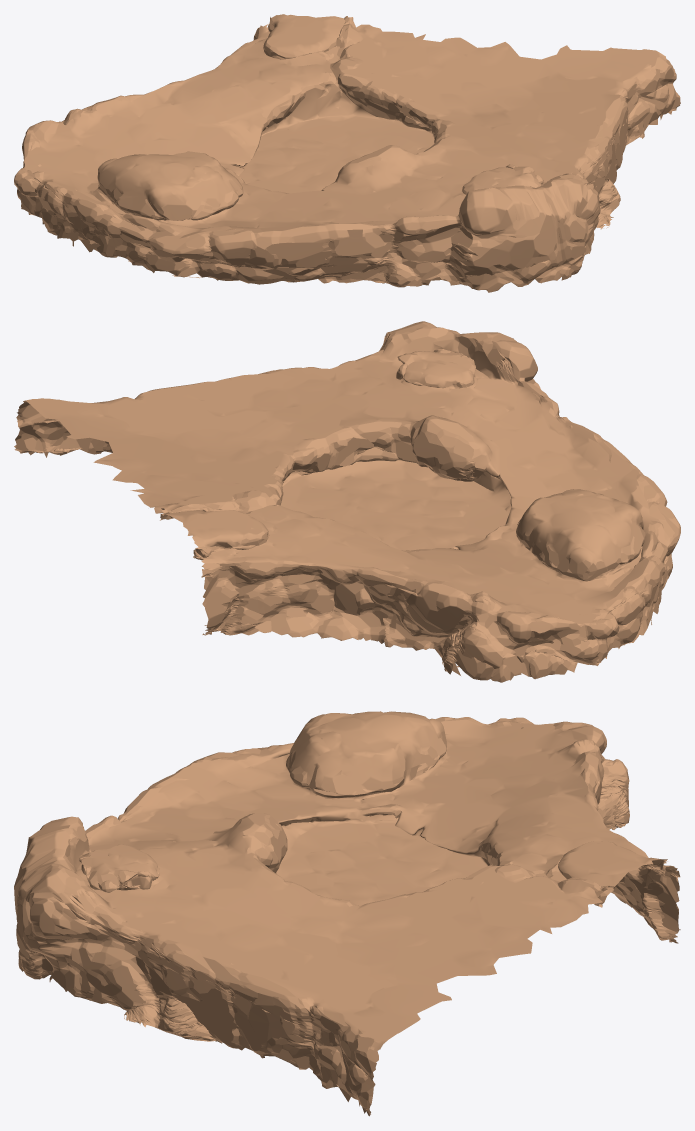
The model's file is SandstoneBig_Mesh_25_003LODs.fbx.
3 views of the same model, one above another, from view 1: azimuth 30°, elevation 25°; view 2: azimuth 150°, elevation 25°; view 3: azimuth 270°, elevation 25° (orthographic). The views are drawn at different scales.
Parts seen in each view (by area): view 1: Mesh_25.003_LOD0; view 2: Mesh_25.003_LOD0; view 3: Mesh_25.003_LOD0.
Boxes of the visible parts, <box> form: Mesh_25.003_LOD0: <box>14,14,680,292</box>; Mesh_25.003_LOD0: <box>14,321,680,682</box>; Mesh_25.003_LOD0: <box>14,711,680,1116</box>.
Size of what is drawn, in the model's own units: 19382 by 2779 by 15166.
